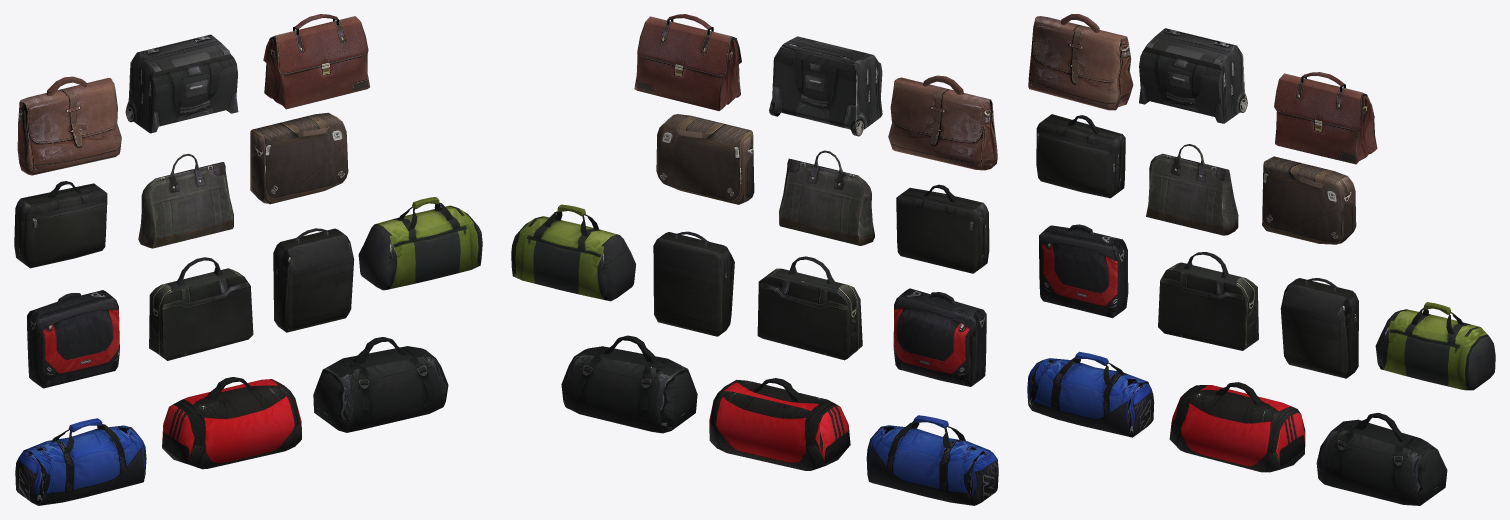
The model's file is briefcases.FBX.
The picture shows the model from 3 angles, left to right: view 1: azimuth 30°, elevation 25°; view 2: azimuth 150°, elevation 25°; view 3: azimuth 330°, elevation 25°; orthographic projection. The views are drawn at different scales.
Visible parts, largest first — view 1: Object014, Object02, Object004, Object003, Object013, Object012, Object010, Object005, Object009, Object008, Object011, Object006 (+1 smaller); view 2: Object014, Object02, Object004, Object013, Object012, Object003, Object005, Object010, Object009, Object011, Object008, Object006 (+1 smaller); view 3: Object014, Object02, Object003, Object004, Object013, Object012, Object005, Object010, Object009, Object008, Object011, Object006 (+1 smaller).
Part boxes in pixels (x1,y1,x2,y2): Object014: [162, 377, 301, 469]; Object02: [313, 337, 448, 432]; Object004: [125, 34, 238, 133]; Object003: [17, 76, 121, 175]; Object013: [15, 418, 146, 505]; Object012: [358, 197, 482, 290]; Object010: [149, 257, 253, 360]; Object005: [263, 14, 369, 109]; Object009: [27, 290, 119, 388]; Object008: [250, 112, 348, 204]; Object011: [273, 228, 354, 332]; Object006: [14, 181, 107, 268]; Object014: [709, 378, 850, 470]; Object02: [561, 335, 697, 433]; Object004: [769, 36, 882, 136]; Object013: [866, 415, 998, 505]; Object012: [511, 204, 635, 301]; Object003: [888, 75, 997, 170]; Object005: [634, 14, 741, 110]; Object010: [757, 256, 862, 360]; Object009: [893, 288, 986, 386]; Object011: [653, 231, 734, 336]; Object008: [656, 114, 754, 204]; Object006: [896, 184, 989, 273]; Object014: [1169, 382, 1305, 472]; Object02: [1316, 413, 1447, 505]; Object003: [1028, 14, 1133, 110]; Object004: [1139, 28, 1247, 123]; Object013: [1027, 351, 1154, 437]; Object012: [1375, 302, 1495, 390]; Object005: [1274, 72, 1377, 164]; Object010: [1158, 252, 1258, 350]; Object009: [1039, 224, 1128, 318]; Object008: [1262, 156, 1356, 244]; Object011: [1280, 278, 1358, 378]; Object006: [1036, 114, 1125, 198].
Bounding box in the file's own units: 71.37 × 61.77 × 10.32.
